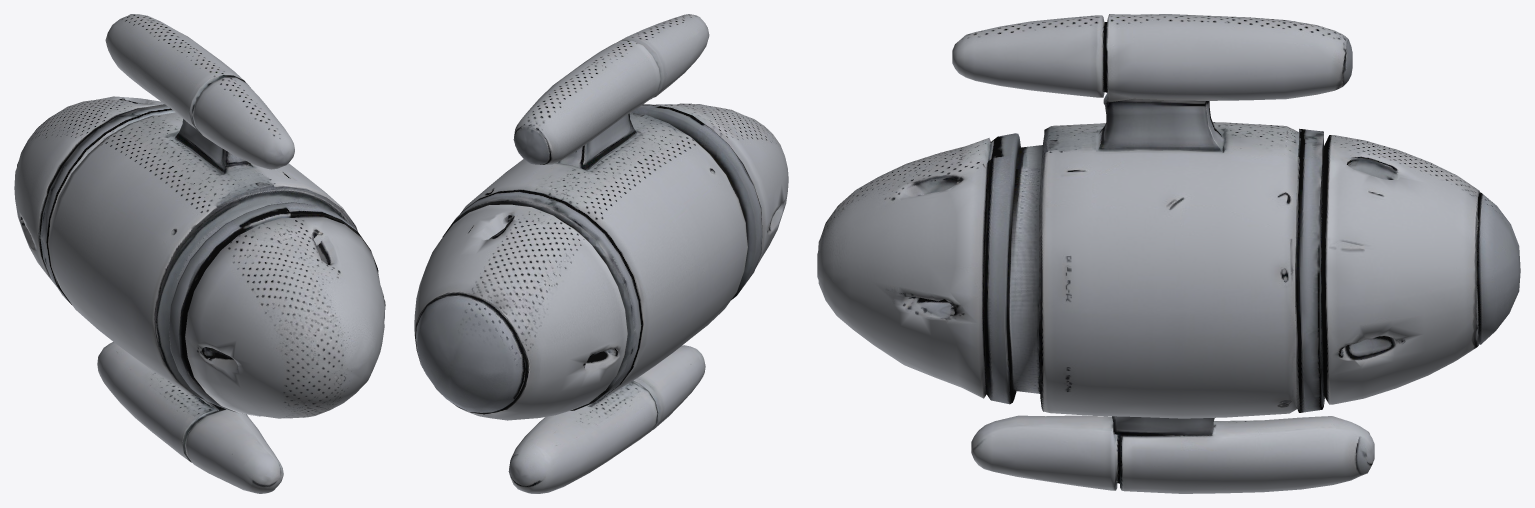
The model's file is tip_30.glb.
3 views of the same model, side by side, from view 1: azimuth 30°, elevation 25°; view 2: azimuth 150°, elevation 25°; view 3: azimuth 270°, elevation 25° (orthographic). The views are drawn at different scales.
Parts seen in each view (by area): view 1: tripo_node_c754de95-6cda-4670-8a7a-a344bf020da6; view 2: tripo_node_c754de95-6cda-4670-8a7a-a344bf020da6; view 3: tripo_node_c754de95-6cda-4670-8a7a-a344bf020da6.
Part boxes in pixels (x1=…): tripo_node_c754de95-6cda-4670-8a7a-a344bf020da6: x1=14, y1=14, x2=385, y2=493; tripo_node_c754de95-6cda-4670-8a7a-a344bf020da6: x1=414, y1=14, x2=788, y2=493; tripo_node_c754de95-6cda-4670-8a7a-a344bf020da6: x1=817, y1=14, x2=1520, y2=493.
Size of the model in its own units: 0.0894 by 0.157 by 0.2101.
Materials: 1 (1 with a texture image).
